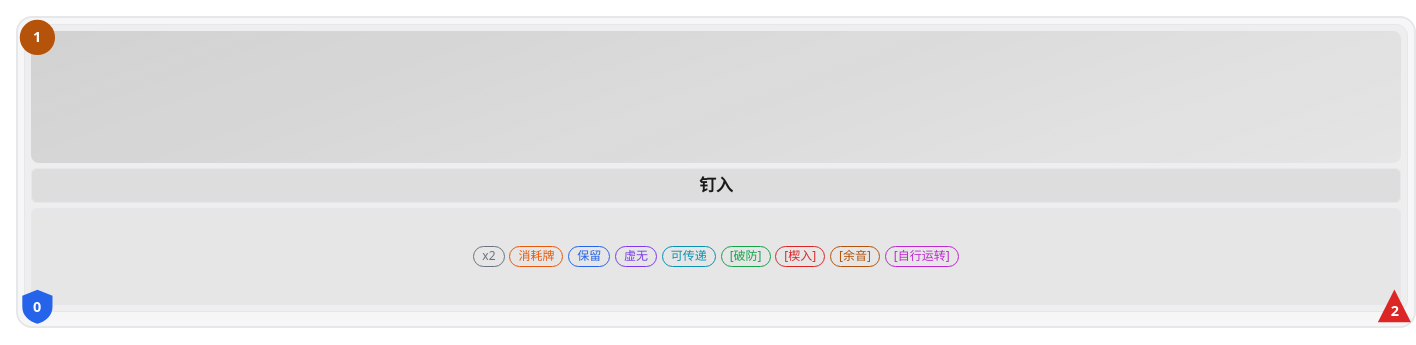
CardItem › 点任意一枚标记（布尔或词缀）都弹说明浮层；再点同一枚收起
// 布尔标记：说明是前端自带的那一句话
Click the button "保留". click: (589, 256)
box: [568,246,610,267]
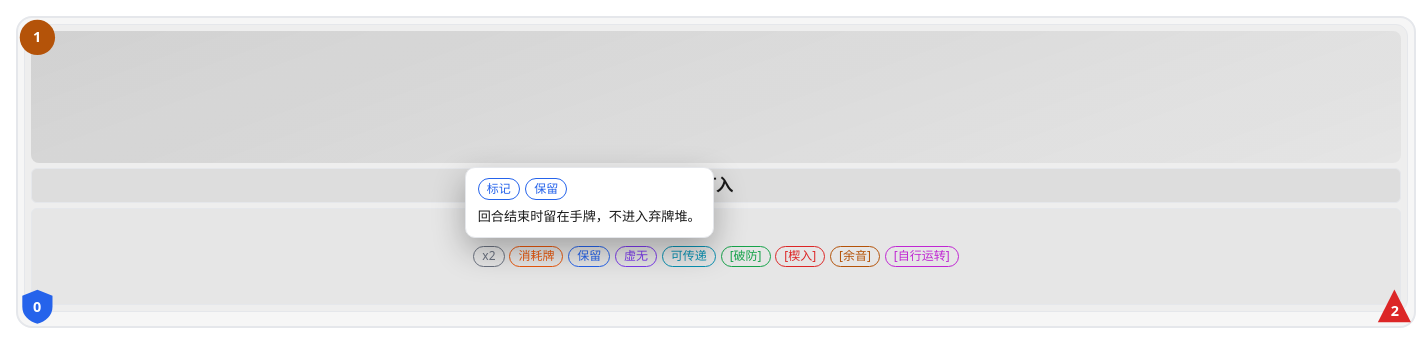
Expected: the tooltip shows "回合结束时留在手牌，不进入弃牌堆。", [478,207,701,225]
Expected: the tooltip shows "标记", [487,180,511,197]
Expected: the tooltip shows "保留", [534,180,558,197]
// 词缀：说明就是它自己那段原文
Click the button "[楔入]". click: (800, 256)
box: [775,246,825,267]
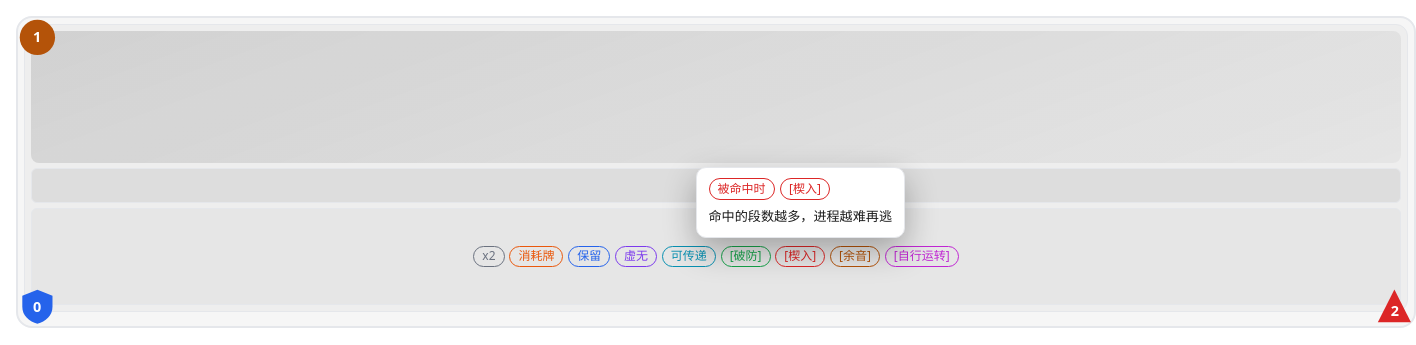
Expected: the number of tooltips is 1, [696,167,905,238]
Expected: the tooltip shows "命中的段数越多，进程越难再逃", [708,207,892,225]
// 再点同一枚 → 收起
Click the button "[楔入]". click: (800, 256)
box: [775,246,825,267]
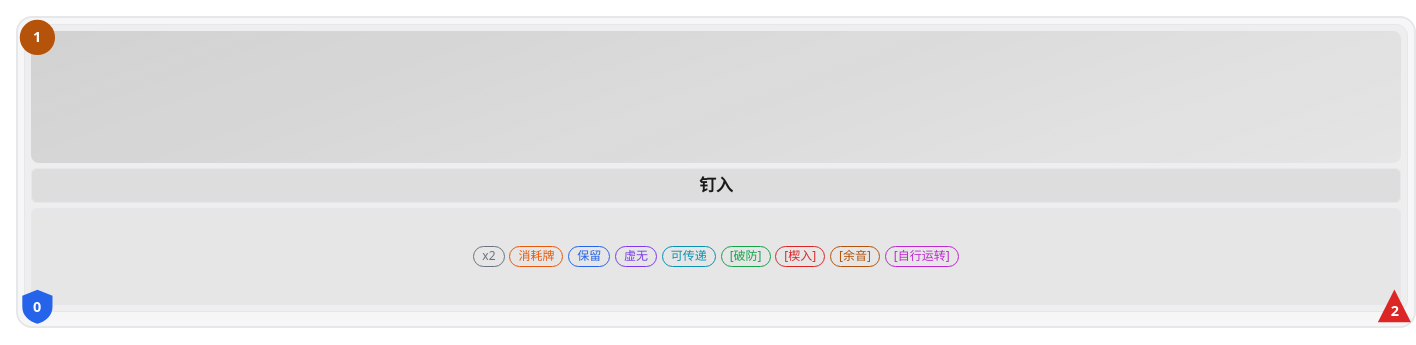
Expected: the tooltip "被命中时 [楔入] 命中的段数越多，进程越难再逃" is gone
